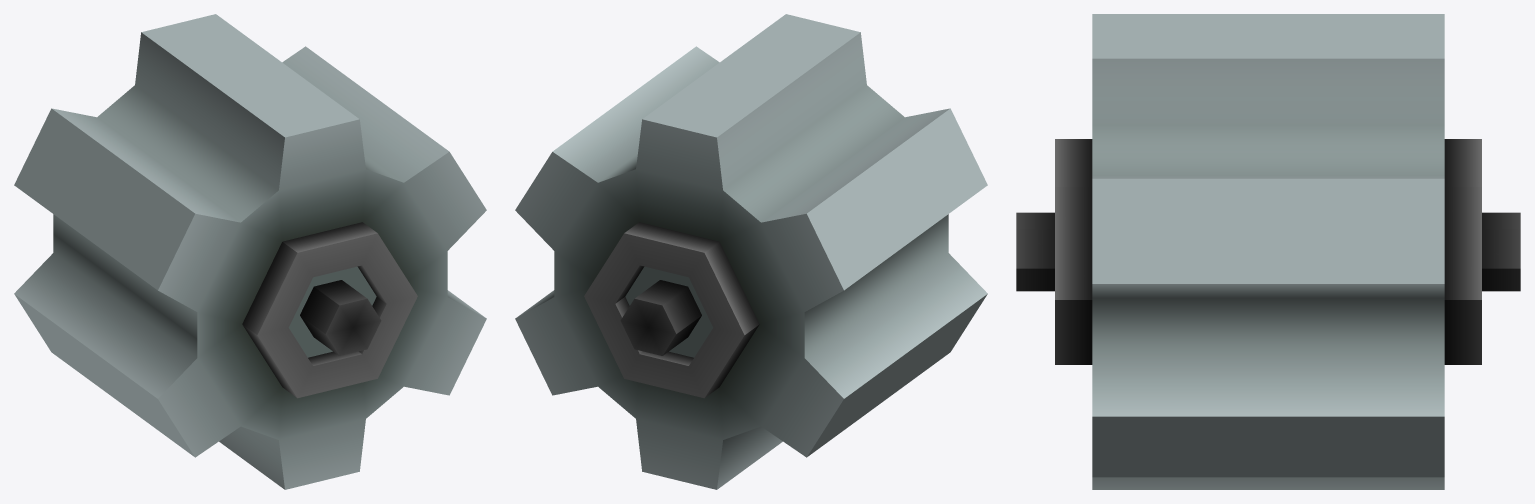
The model's file is Cog_A.fbx.
3 renders of one model, left to right at view 1: azimuth 30°, elevation 25°; view 2: azimuth 150°, elevation 25°; view 3: azimuth 270°, elevation 25°, orthographic. The views are drawn at different scales.
Parts seen in each view (by area): view 1: Cogwheel_A; view 2: Cogwheel_A; view 3: Cogwheel_A.
Boxes of the visible parts, box(x1,y1,x2,y2) form: Cogwheel_A: box(14, 14, 486, 489); Cogwheel_A: box(515, 14, 987, 489); Cogwheel_A: box(1016, 14, 1520, 489).
Size of the model in its own units: 33 by 33.78 by 35.8.
